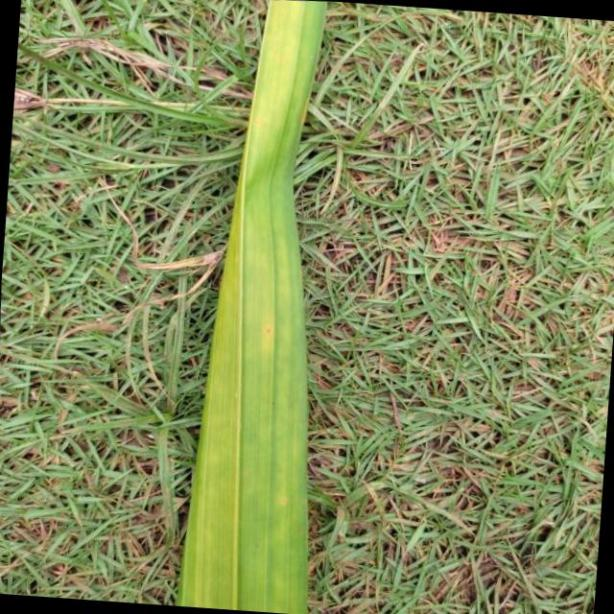nitrogen: (178, 0, 330, 614)
